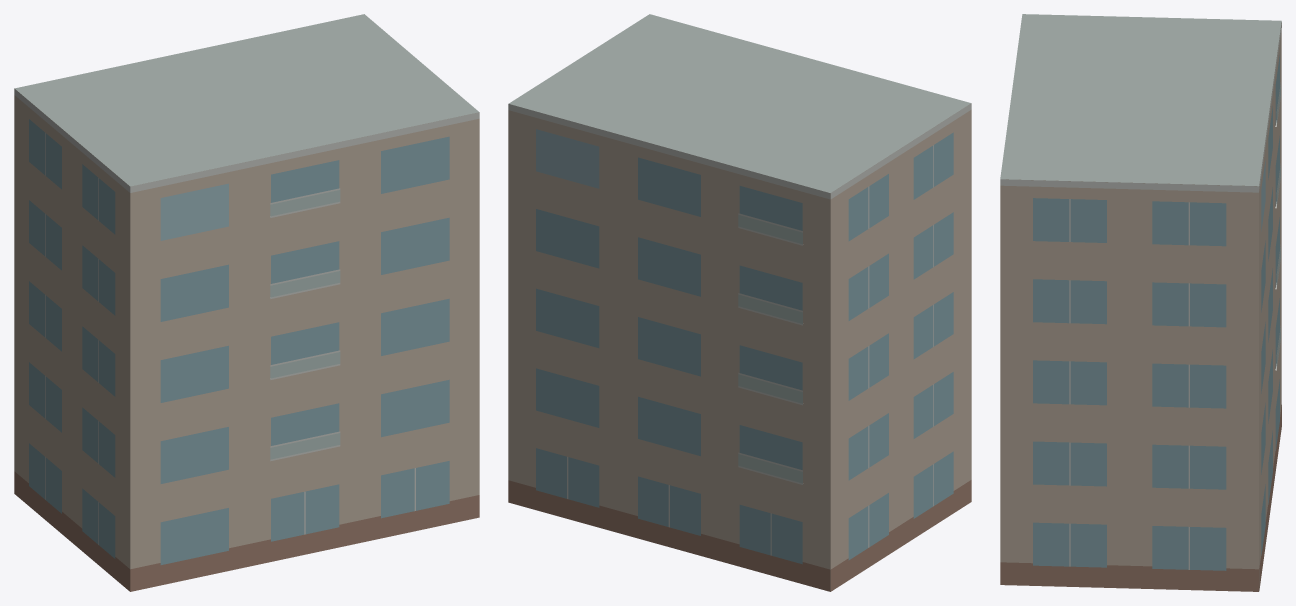
File: survey-upis-32654971.glb
The picture shows the model from 3 angles, left to right: view 1: azimuth 30°, elevation 25°; view 2: azimuth 150°, elevation 25°; view 3: azimuth 270°, elevation 25°; orthographic projection.
Parts seen in each view (by area): view 1: survey-upis-32654971.tmp; view 2: survey-upis-32654971.tmp; view 3: survey-upis-32654971.tmp.
Boxes of the visible parts, bbox=[...] form: survey-upis-32654971.tmp: bbox=[14, 14, 479, 591]; survey-upis-32654971.tmp: bbox=[508, 14, 971, 591]; survey-upis-32654971.tmp: bbox=[1000, 14, 1281, 591].
Bounding box in the file's own units: 13.89 × 15.25 × 9.6.
